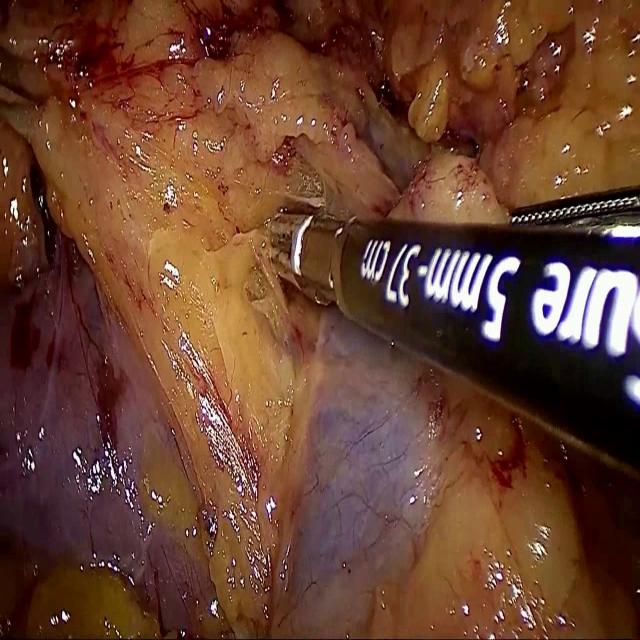surgical-tool: (268, 188, 640, 480)
